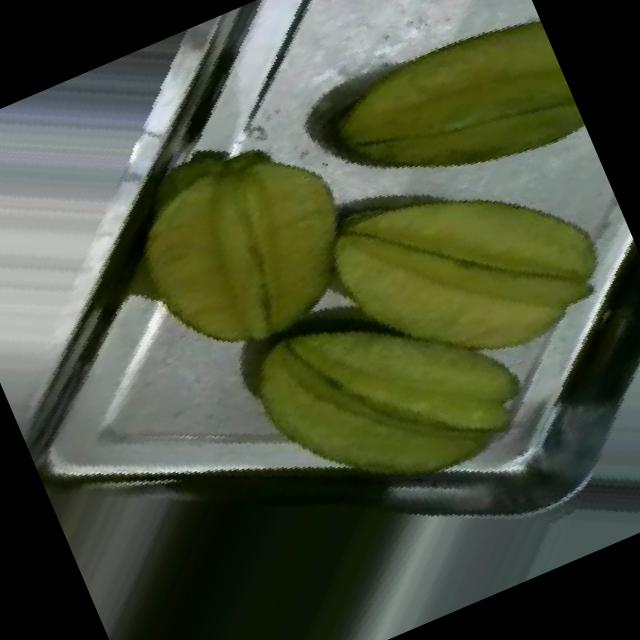fruit: (225, 95, 640, 542), (52, 66, 424, 437), (265, 0, 610, 287)
